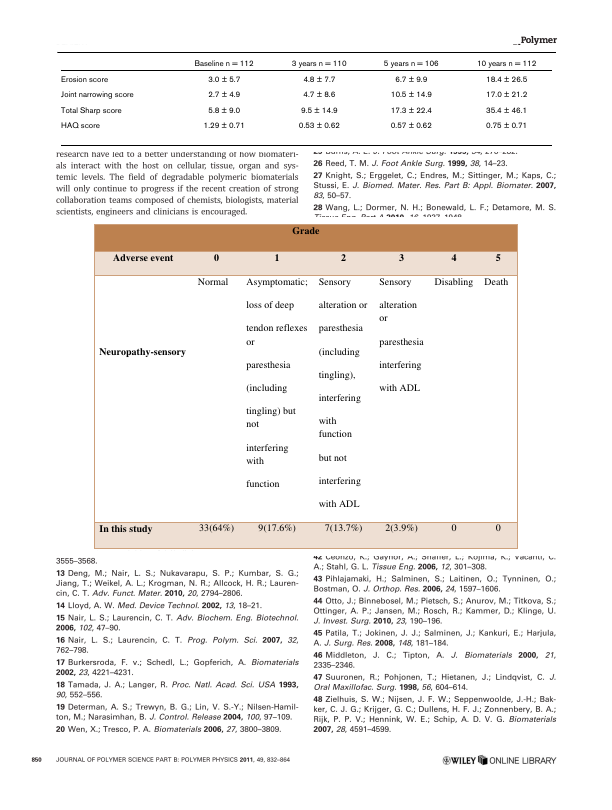bordered: (93, 223, 517, 548)
borderless: (56, 50, 552, 145)
cell: (245, 275, 309, 490), (318, 275, 368, 510), (378, 275, 425, 394), (98, 344, 187, 358), (112, 250, 174, 264), (59, 91, 134, 101), (98, 521, 154, 534), (59, 106, 122, 116), (475, 59, 537, 69), (193, 59, 254, 69), (290, 59, 347, 69), (382, 59, 439, 69), (434, 275, 474, 288), (257, 521, 297, 534), (324, 521, 363, 534), (59, 75, 108, 85), (198, 521, 235, 534), (384, 521, 419, 534), (484, 75, 528, 85), (484, 91, 528, 101), (484, 106, 528, 116), (484, 122, 528, 132), (389, 91, 432, 101), (389, 106, 432, 116), (202, 122, 245, 132), (297, 122, 340, 132), (389, 122, 432, 132), (197, 275, 229, 288), (59, 122, 100, 132), (291, 223, 320, 237), (299, 106, 338, 116), (207, 75, 241, 85), (302, 75, 336, 85), (394, 75, 428, 85), (207, 91, 241, 101), (302, 91, 336, 101), (207, 106, 241, 116), (483, 275, 509, 288), (213, 250, 220, 264), (274, 250, 281, 264), (340, 250, 347, 264), (398, 250, 405, 264), (450, 250, 457, 264), (495, 250, 502, 264), (450, 521, 457, 534), (495, 521, 502, 534)
